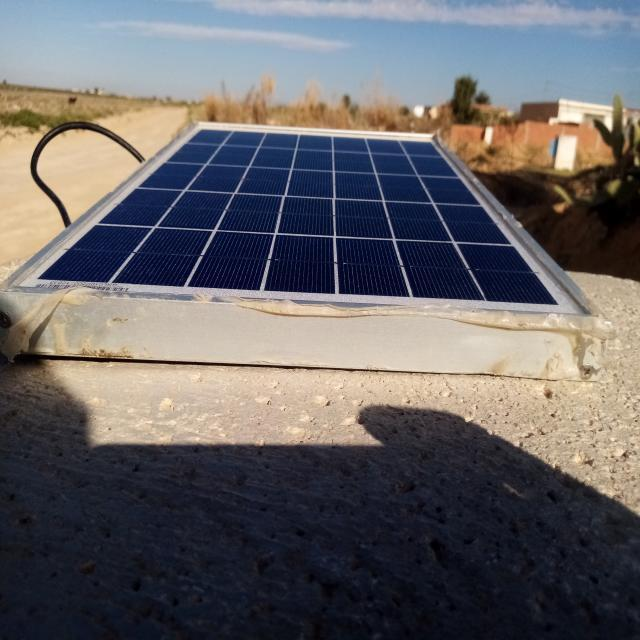no faulty: (8, 125, 600, 322)
